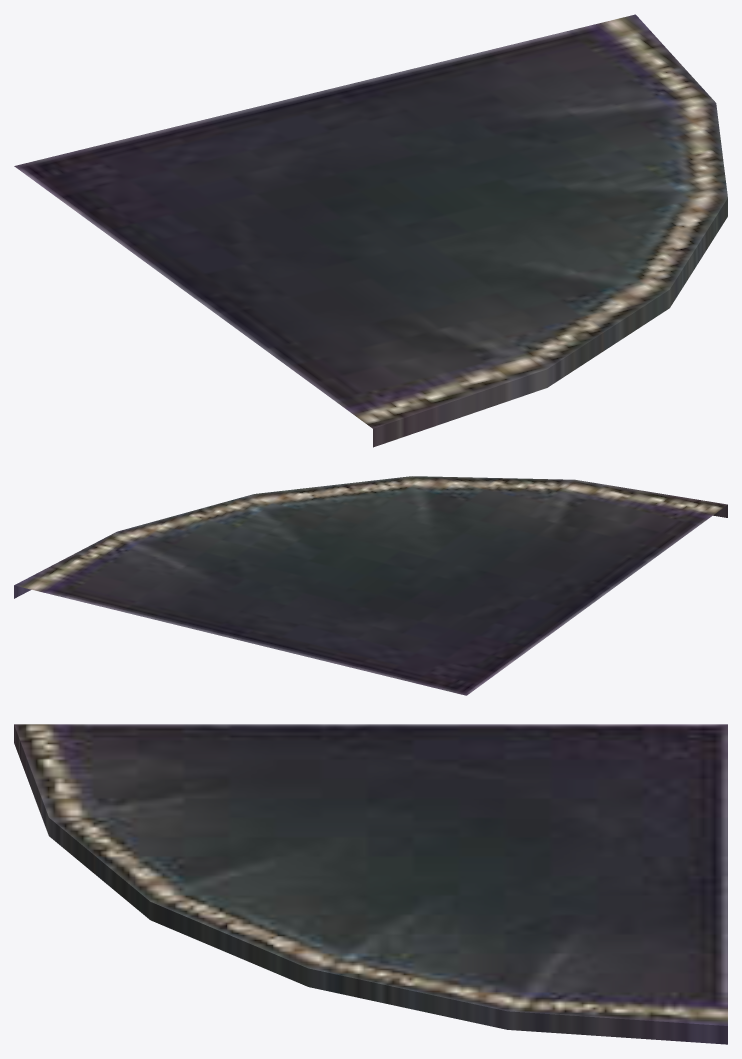
The picture shows the model from 3 angles, top to bottom: view 1: azimuth 30°, elevation 25°; view 2: azimuth 150°, elevation 25°; view 3: azimuth 270°, elevation 25°; orthographic projection. The views are drawn at different scales.
Parts seen in each view (by area): view 1: a116; view 2: a116; view 3: a116.
Boxes of the visible parts, <box> form: a116: <box>14,14,727,447</box>; a116: <box>14,476,727,695</box>; a116: <box>14,724,727,1044</box>.
Size of the model in its own units: 1011 by 29 by 1011.
